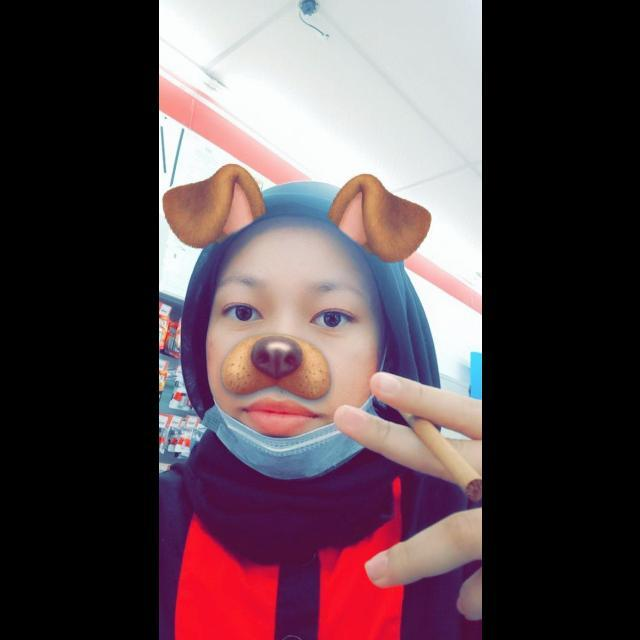rokok: (394, 408, 482, 502)
